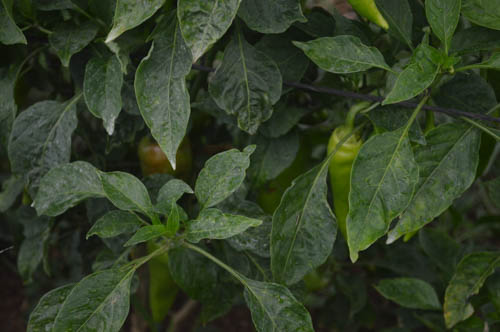ChiliPepper: (138, 137, 189, 321), (325, 131, 365, 242)
